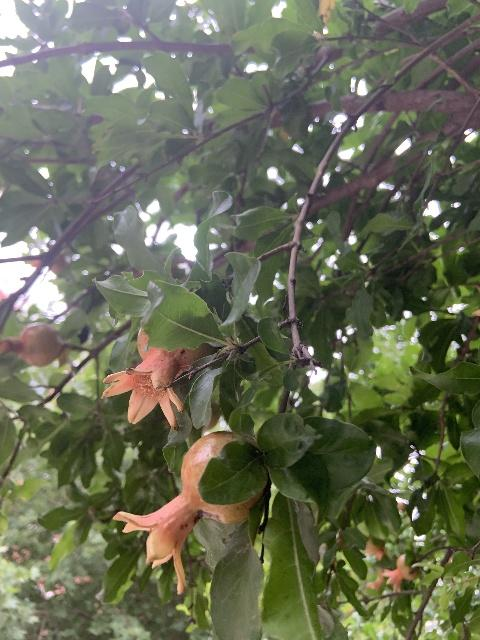early-fruit: (112, 431, 263, 594), (101, 326, 213, 430), (1, 322, 63, 368), (381, 553, 419, 593), (365, 537, 385, 559)
